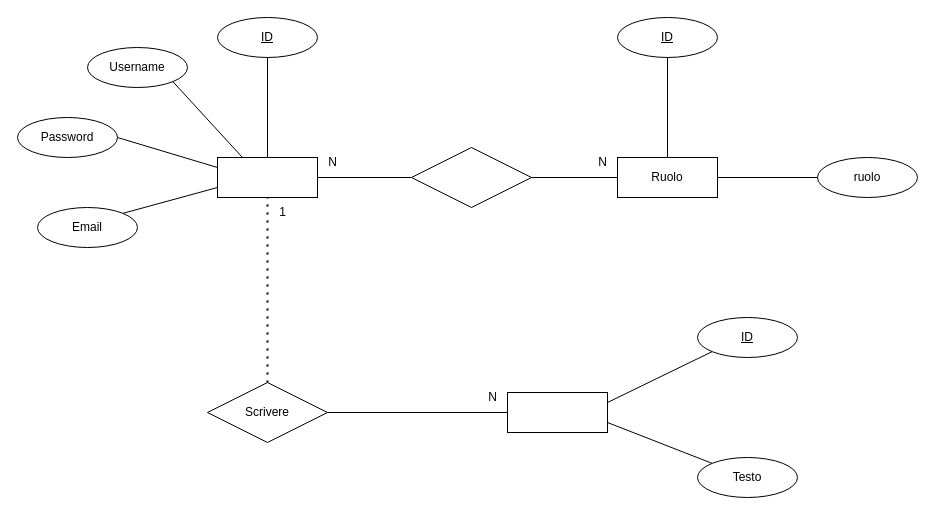
Some shapes in this 935 by 515 pixel diagram are drawn without their labels. Each missing label, with the centre of its shape:
Bozza: (x=557, y=412)
Essere: (x=471, y=177)
Utente: (x=267, y=177)
